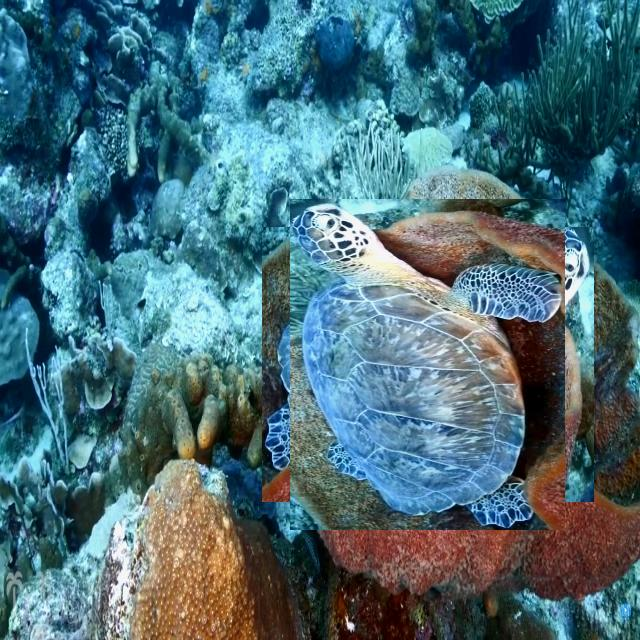Sea turtle: (276, 213, 580, 516)
